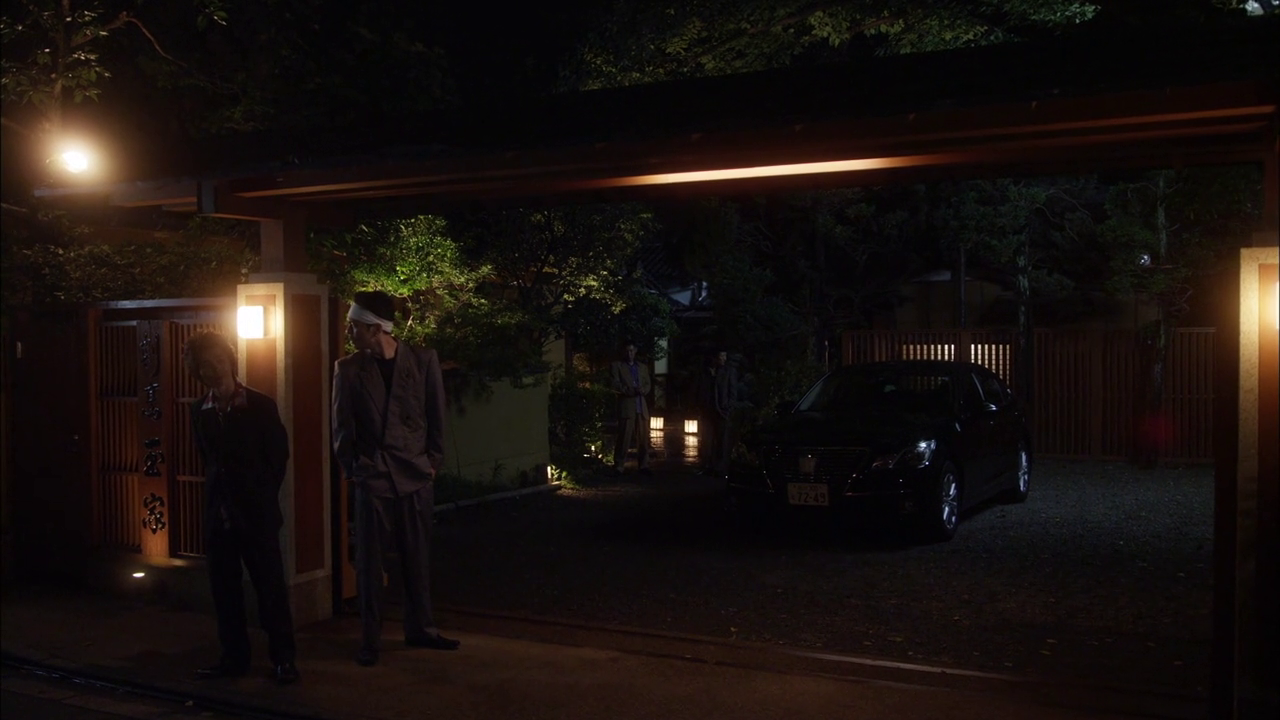car: (714, 352, 1044, 543)
